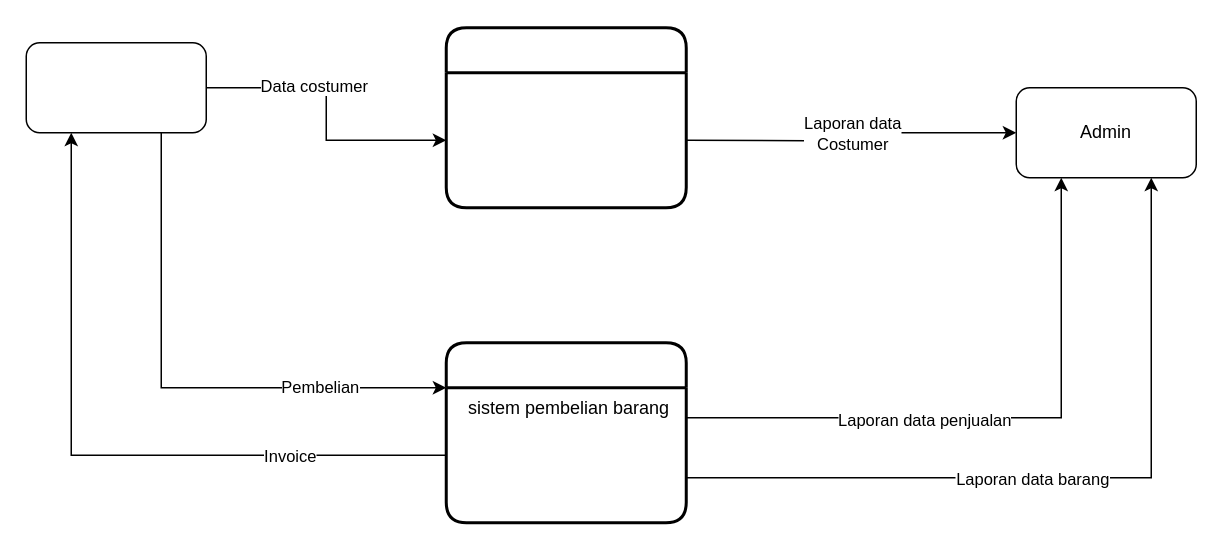
The diagram is 1223 pixels wide and 549 high, and some of its shapes have lost their labels. Here are the shapes that lost their labels. From the top down, the box of each, then its label:
(25, 41, 206, 133): costumer
(444, 26, 687, 208): proses pendaftaran toko
